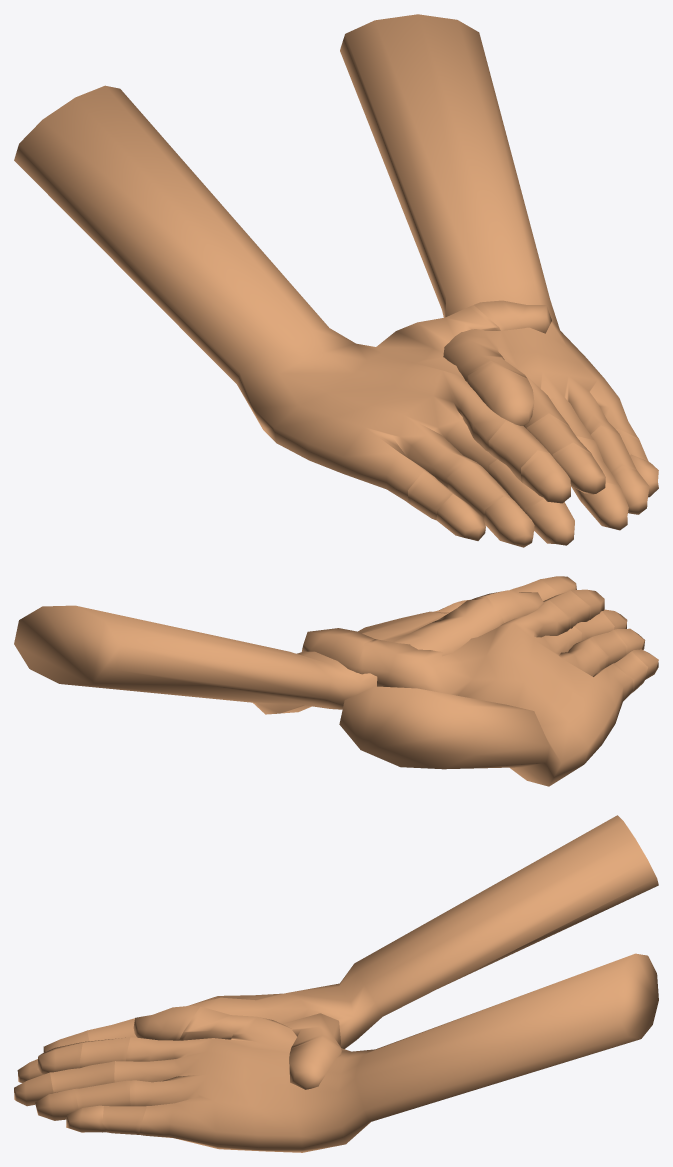
Rendered from Tangan.fbx.
3 views of the same model, one above another, from view 1: azimuth 30°, elevation 25°; view 2: azimuth 150°, elevation 25°; view 3: azimuth 270°, elevation 25° (orthographic). The views are drawn at different scales.
Visible parts, largest first — view 1: Cube.001; view 2: Cube.001; view 3: Cube.001.
Boxes of the visible parts, x1,y1,x2,y2 form: Cube.001: (14,14,658,547); Cube.001: (14,576,658,786); Cube.001: (14,815,658,1152).
Bounding box in the file's own units: 248 × 121 × 345.
